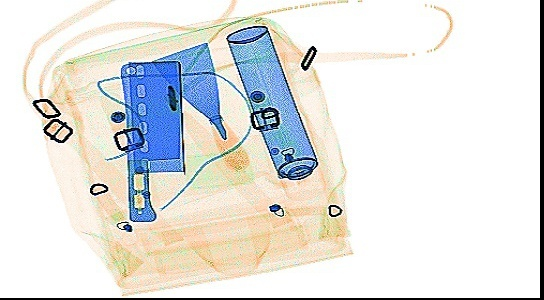knife: (119, 59, 186, 222)
pressure: (225, 23, 327, 201)
